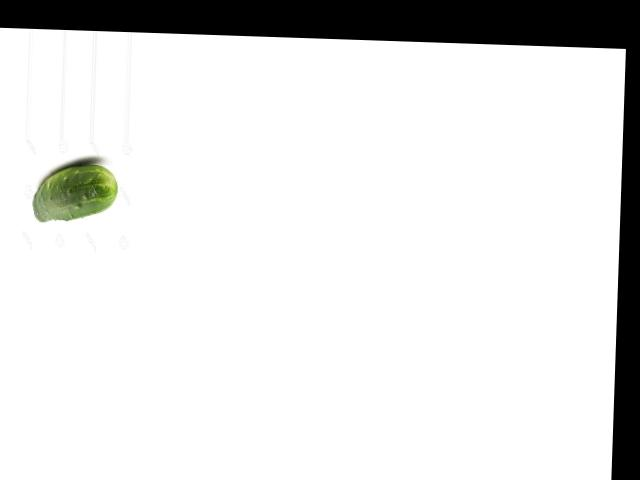cucumber: (32, 162, 119, 224)
